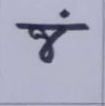anusvara: (61, 10, 69, 17)
